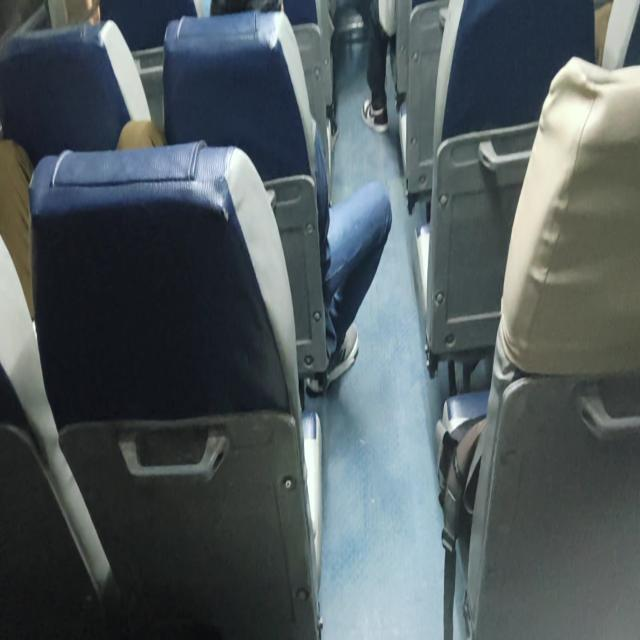person: (208, 0, 296, 36)
